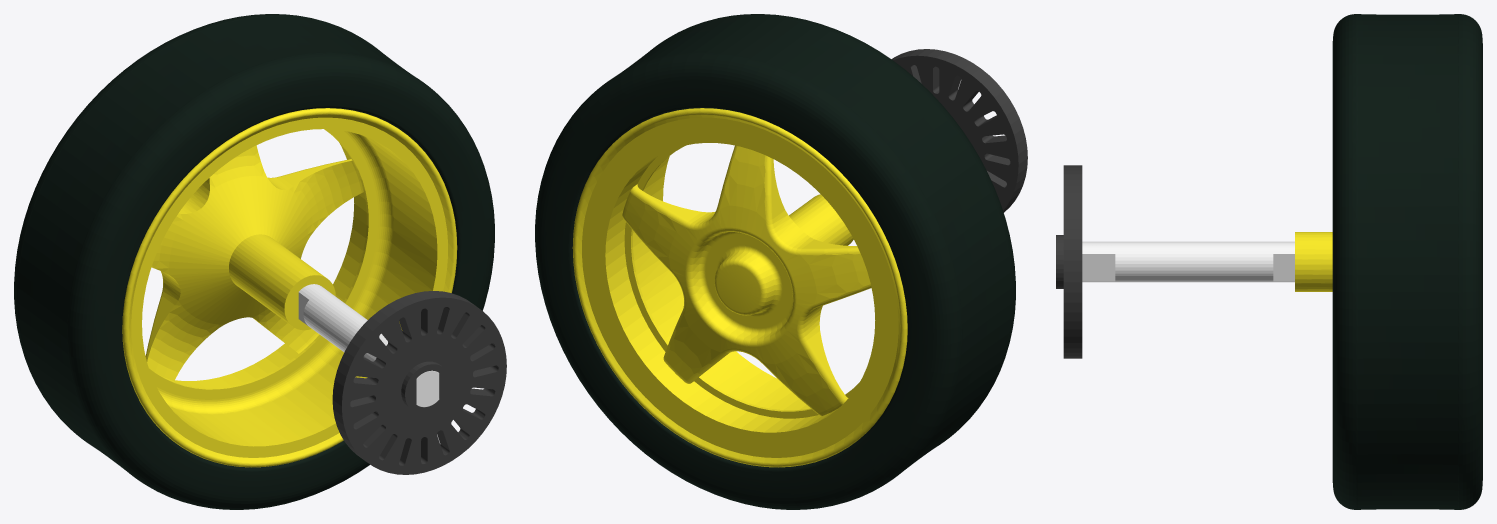
The model's file is roda.dae.
3 views of the same model, side by side, from view 1: azimuth 30°, elevation 25°; view 2: azimuth 150°, elevation 25°; view 3: azimuth 270°, elevation 25° (orthographic).
Parts seen in each view (by area): view 1: 5ee1ad65218c3c14acfc37a1 (×5); view 2: 5ee1ad65218c3c14acfc37a1 (×4); view 3: 5ee1ad65218c3c14acfc37a1 (×4).
Part boxes in pixels (bbox=[...]): 5ee1ad65218c3c14acfc37a1 (×5): bbox=[14, 14, 506, 509]; 5ee1ad65218c3c14acfc37a1 (×4): bbox=[535, 14, 1027, 509]; 5ee1ad65218c3c14acfc37a1 (×4): bbox=[1056, 14, 1482, 509].
Size of the model in its own units: 0.066 by 0.0568 by 0.066.
